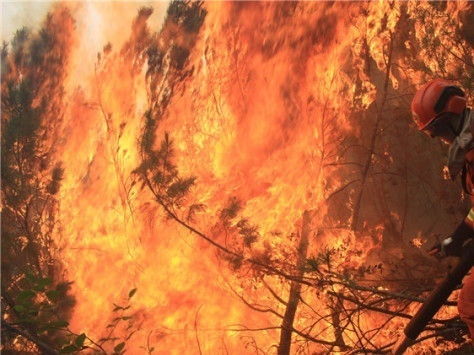fire: (0, 26, 412, 342)
